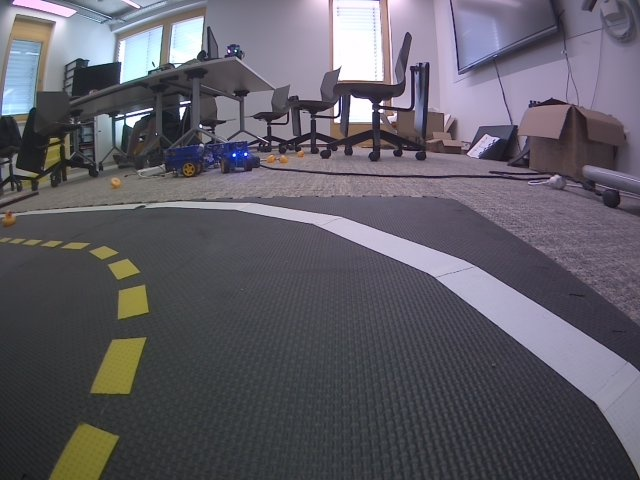Bot: (164, 146, 208, 177), (219, 143, 252, 172), (225, 43, 243, 60)
